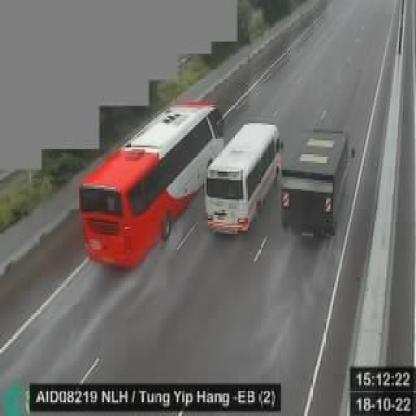Bus: (78, 104, 226, 271), (203, 122, 280, 240)
Truck: (278, 128, 352, 247)
